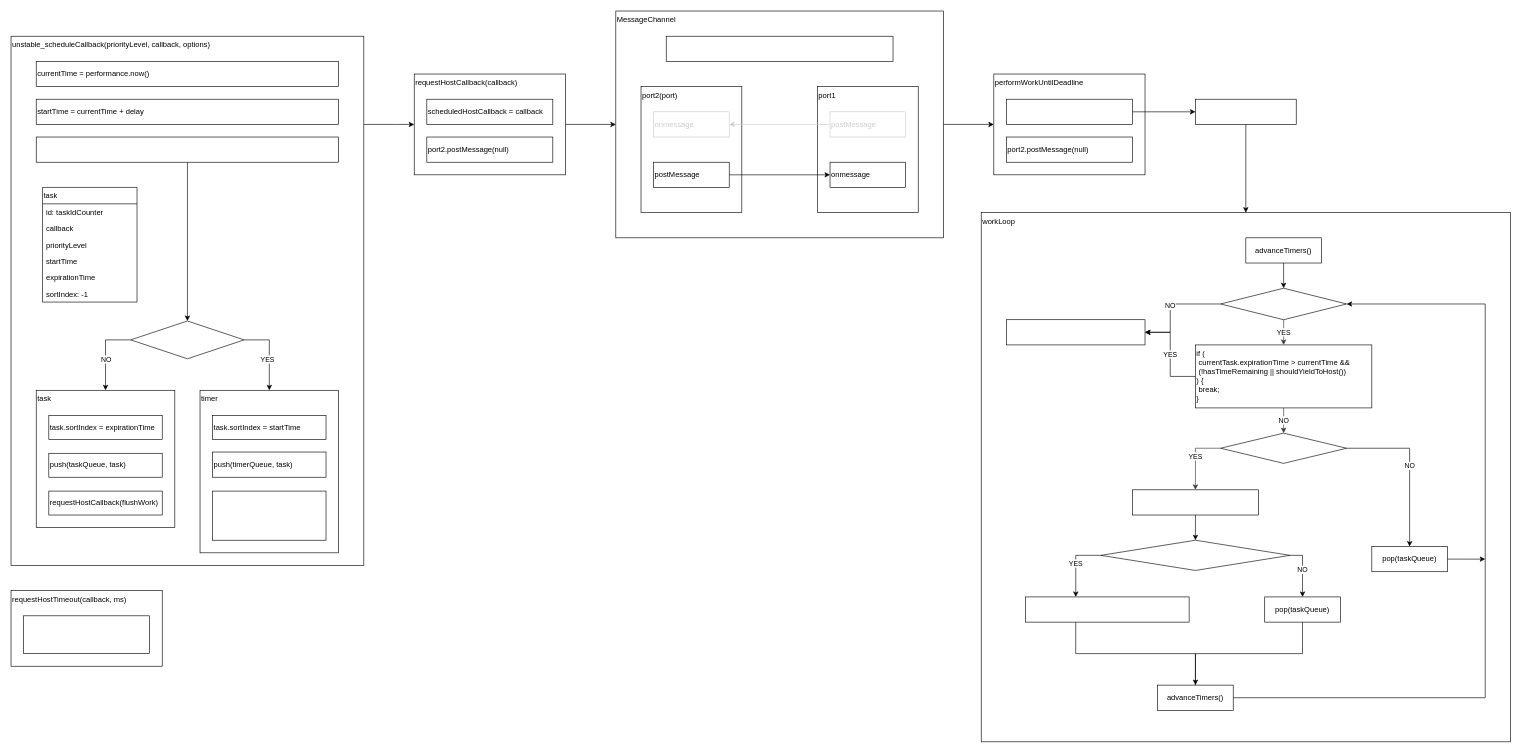
This 1521x753 diagram has some shape labels left out. The centre of each missing label's shape, as x and y in pixels:
"channel.port1.onmessage = performWorkUntilDeadline" belongs at (779,48).
"continuationCallback = callback()" belongs at (1195,502).
"currentTask.callback = continuationCallback" belongs at (1107,609).
"expirationTime = startTime + timeout" belongs at (187,149).
"flushWork" belongs at (1245,111).
"requestHostTimeout( handleTimeout, startTime - currentTime )" belongs at (269,515).
"requestHostTimeout(handleTimeout)" belongs at (1075,332).
"scheduledHostCallback()" belongs at (1069,111).
"setTimeout(() => { callback(getCurrentTime()); }, ms);" belongs at (86,634).
"startTime > currentTime" belongs at (187,339).
"typeof callback === 'function'" belongs at (1283,447).
"typeof continuationCallback === 'function'" belongs at (1195,555).
"while peek(taskQueue) !== null" belongs at (1283,304).
